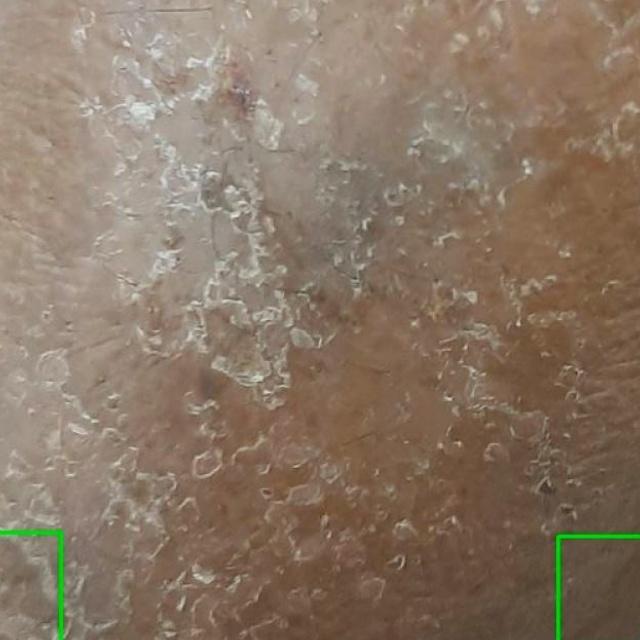Eczema: (558, 536, 639, 639), (0, 532, 62, 639)
